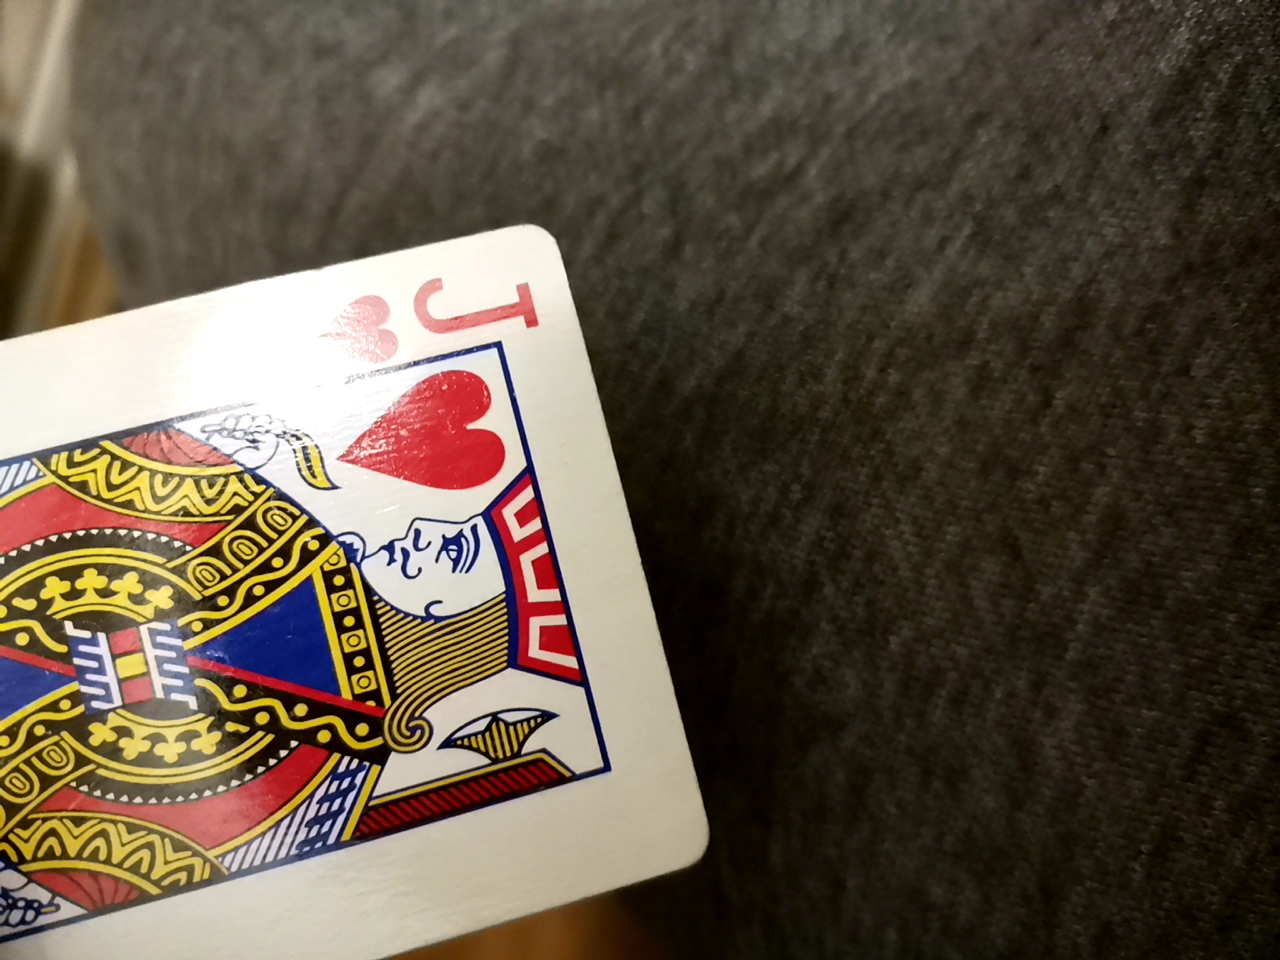hx j: (6, 214, 725, 954)
